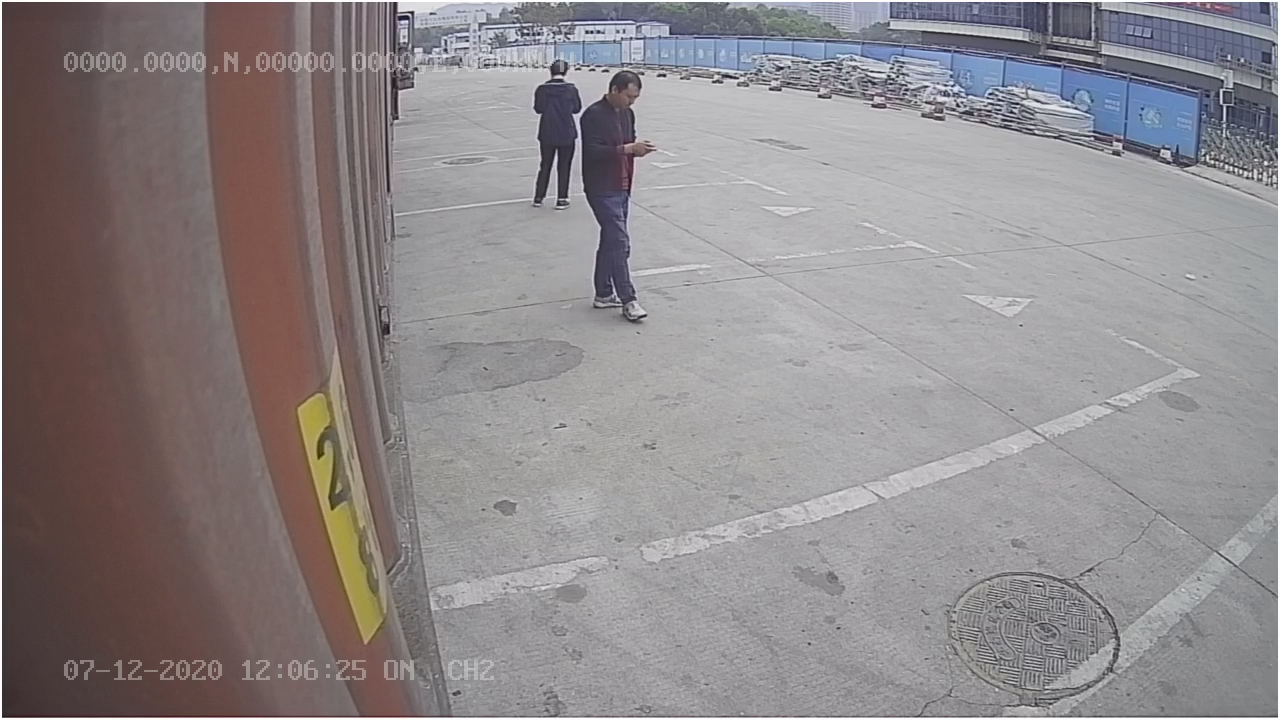person: (580, 67, 652, 322)
